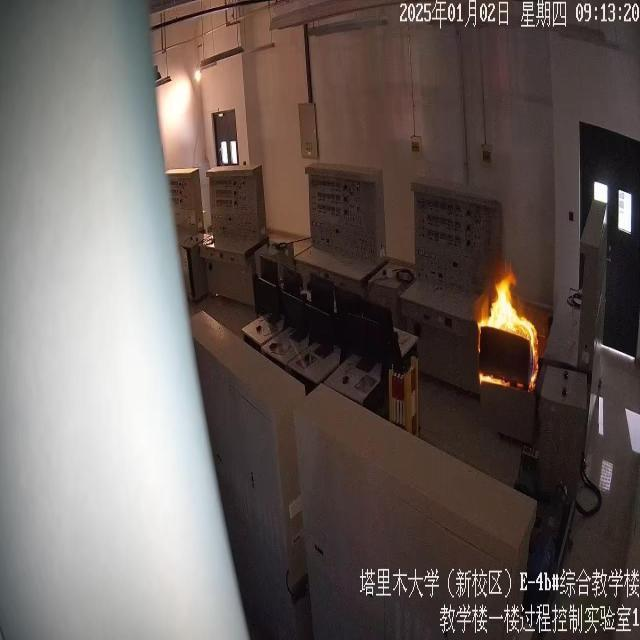smoke: (478, 262, 542, 382)
